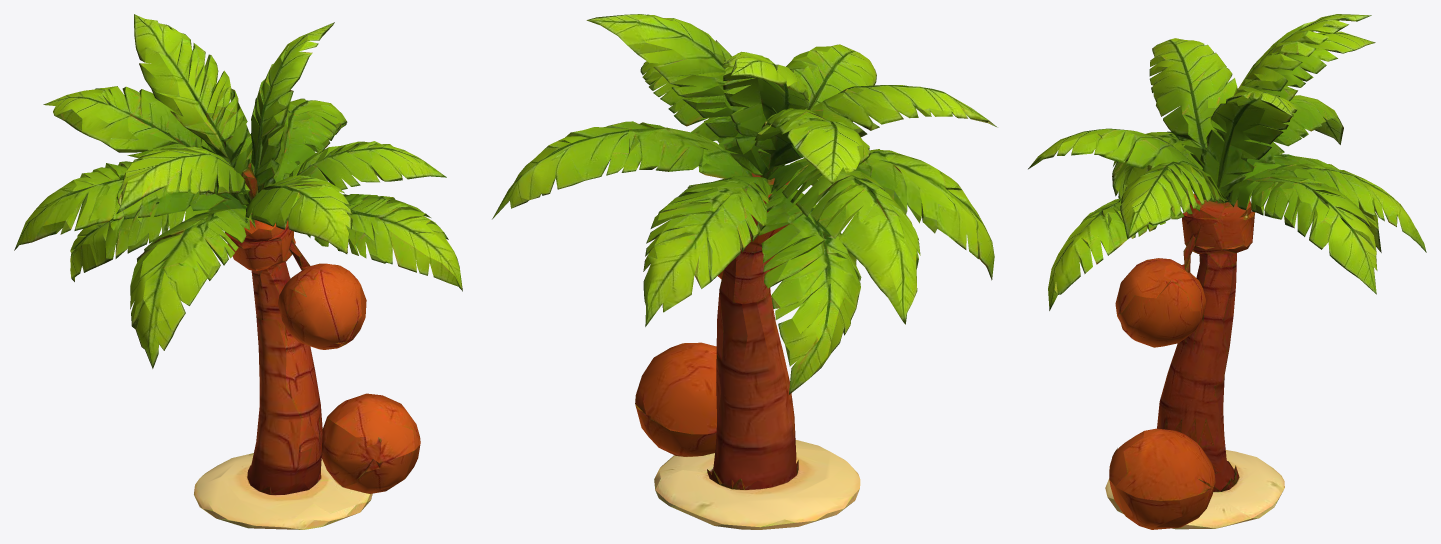
The model's file is palm.glb.
3 views of the same model, side by side, from view 1: azimuth 30°, elevation 25°; view 2: azimuth 150°, elevation 25°; view 3: azimuth 270°, elevation 25° (orthographic). The views are drawn at different scales.
Bounding box in the file's own units: 1.55 × 1.9 × 1.54.
1 material, 1 textured.
